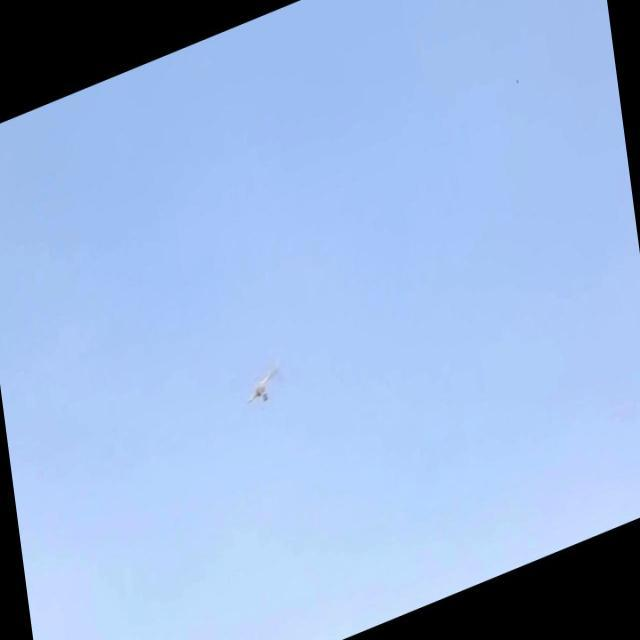drone: (238, 354, 286, 416)
